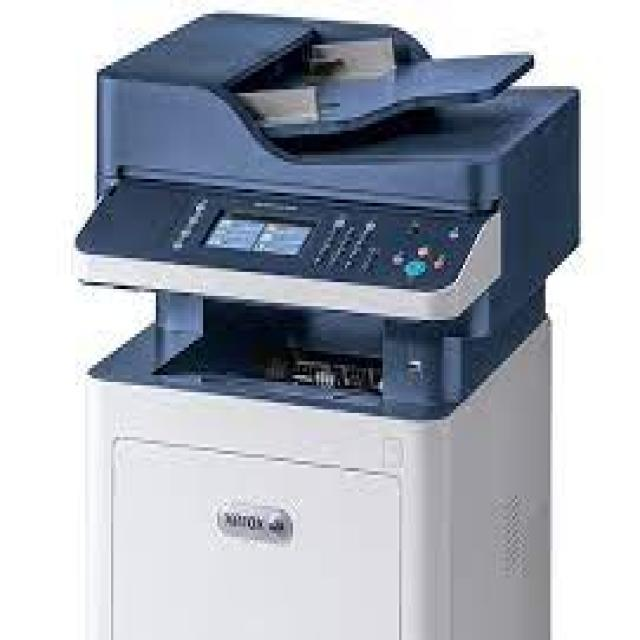printer: (60, 0, 584, 640)
